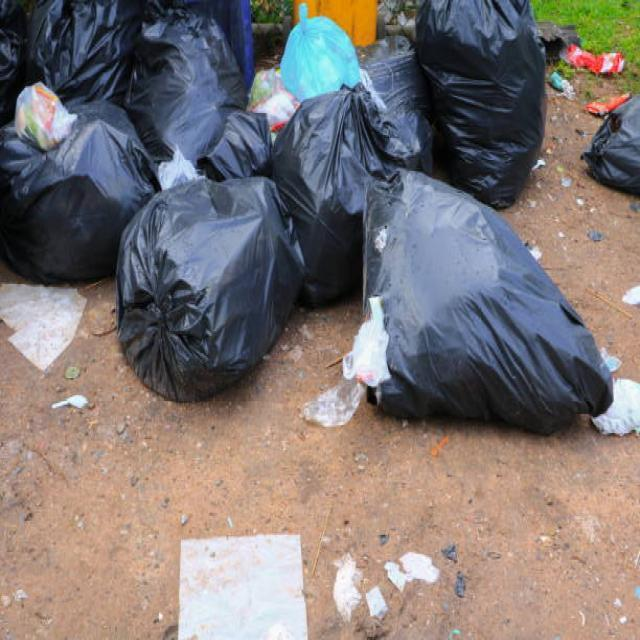garbage: (0, 1, 622, 434)
